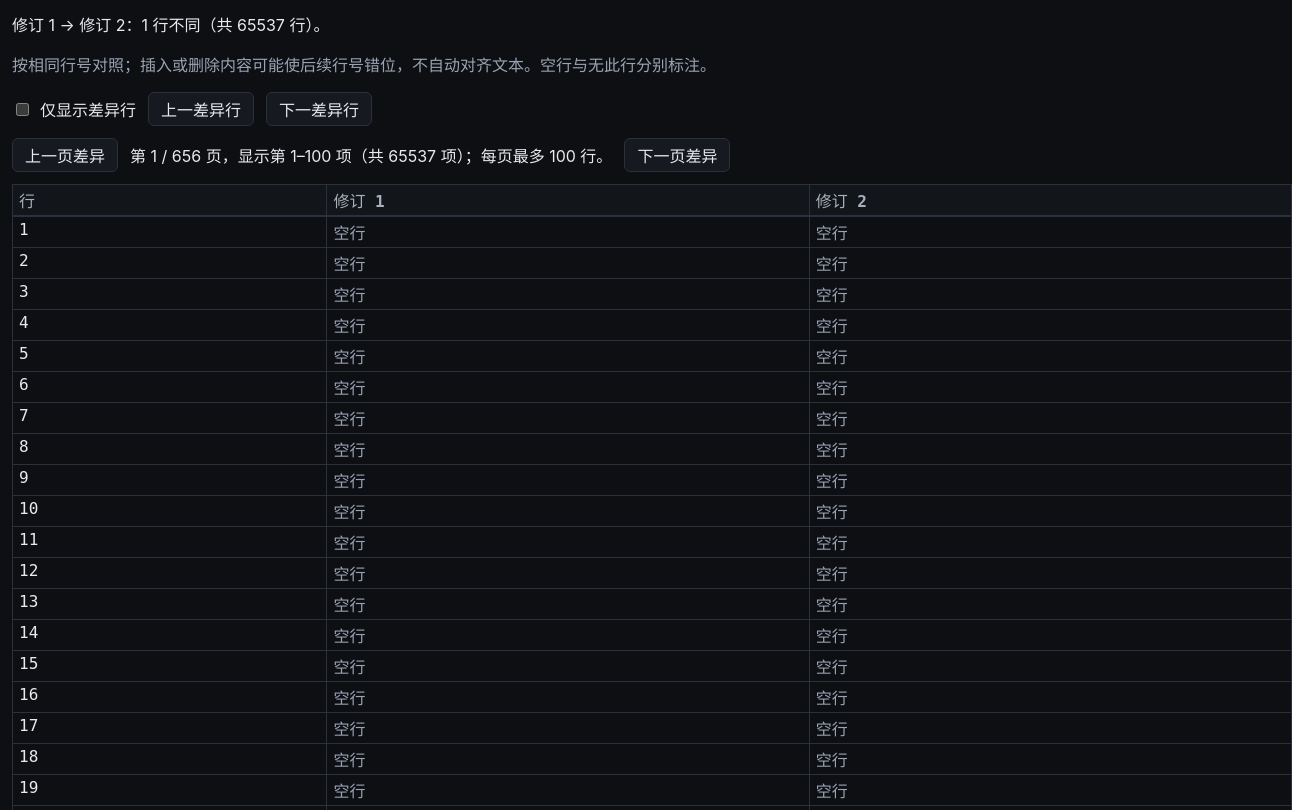
Test: Prompt revision comparison usability › keeps the DOM bounded for newline-heavy bodies at the existing 64 KiB limit
expect the text "修订 1 → 修订 2：1 行不同（共 65537 行）。" is shown: met, box [12,15,329,35]
Click the checkbox labelled "仅显示差异行".
click(22, 109)  # box [16,102,29,116]
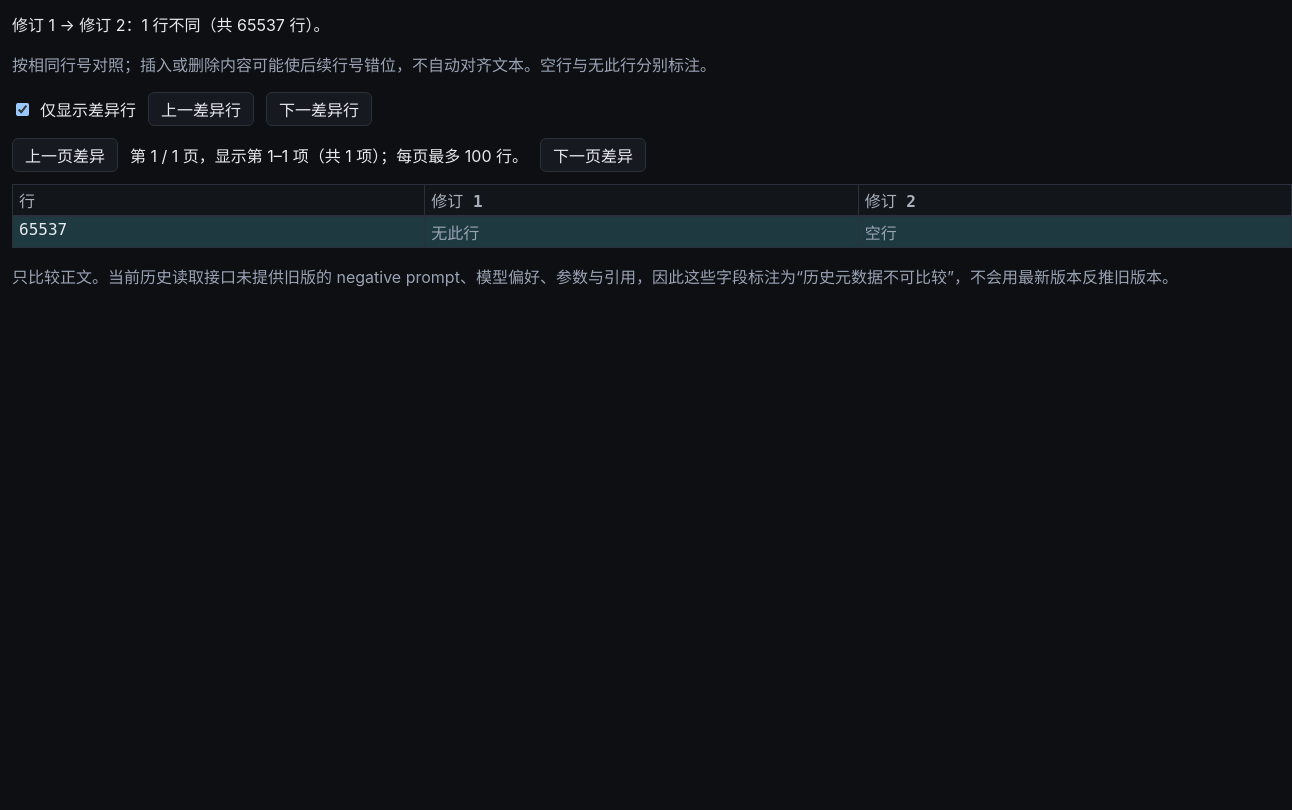
expect the text "65537" is shown: met, box [12,216,425,248]
expect the number of rows is 2: met, box [12,184,1291,216]; [12,216,1291,248]
